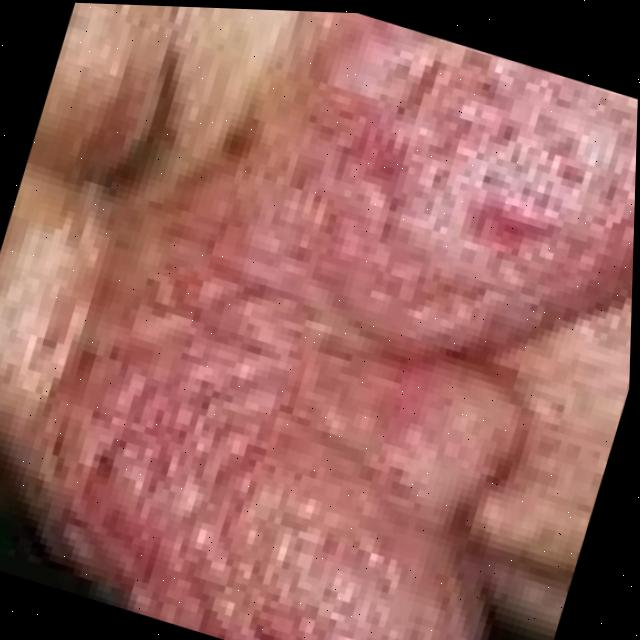Rosacea: (0, 194, 573, 640), (179, 7, 640, 413)
